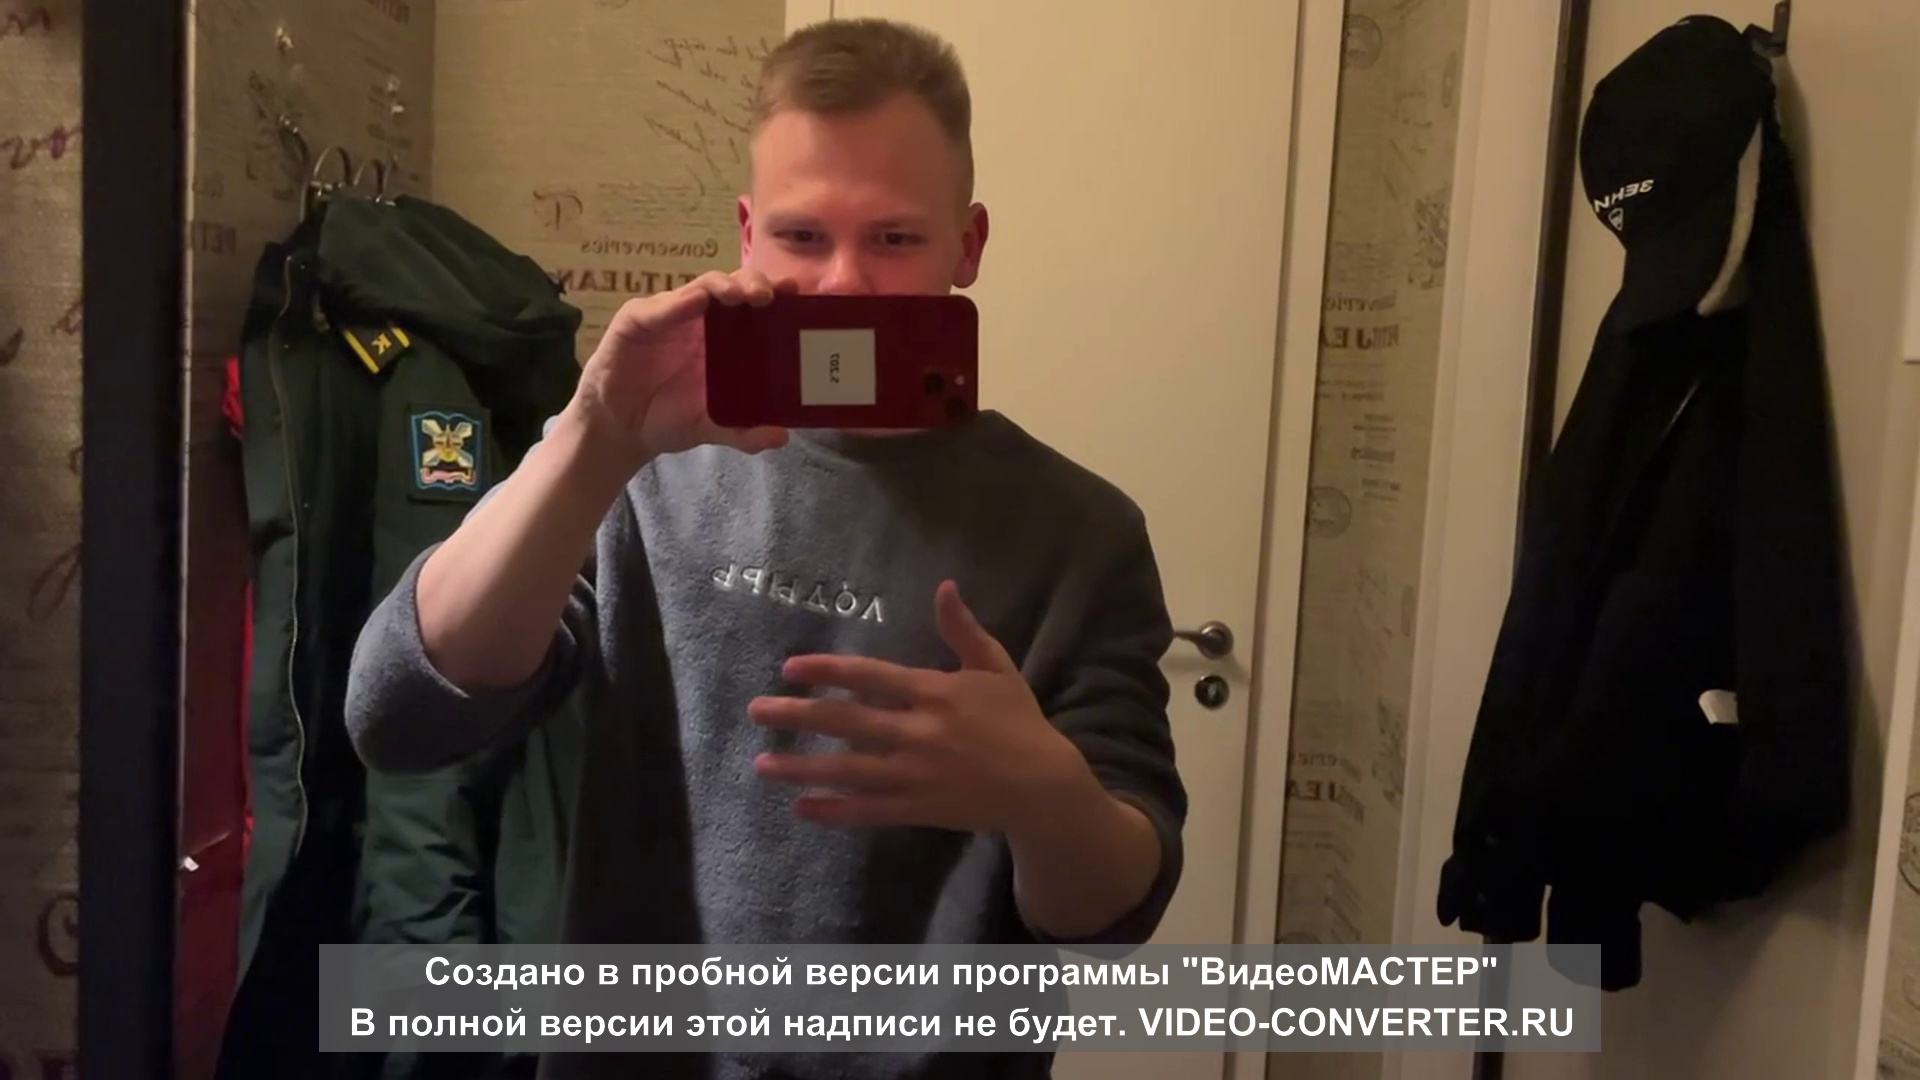Кисть: (749, 575, 1046, 832)
